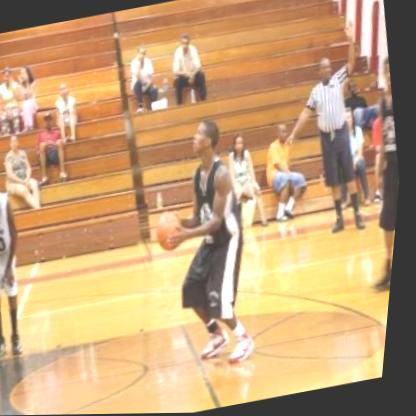basketball: (153, 207, 192, 255)
